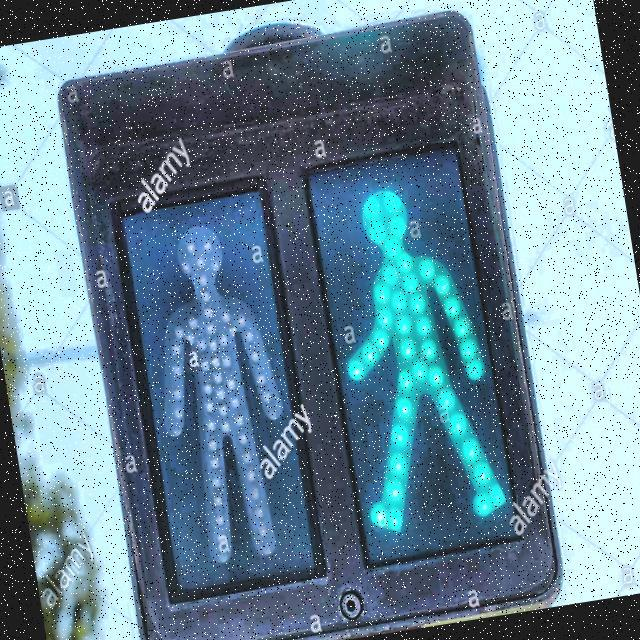green_light: (316, 168, 516, 544)
